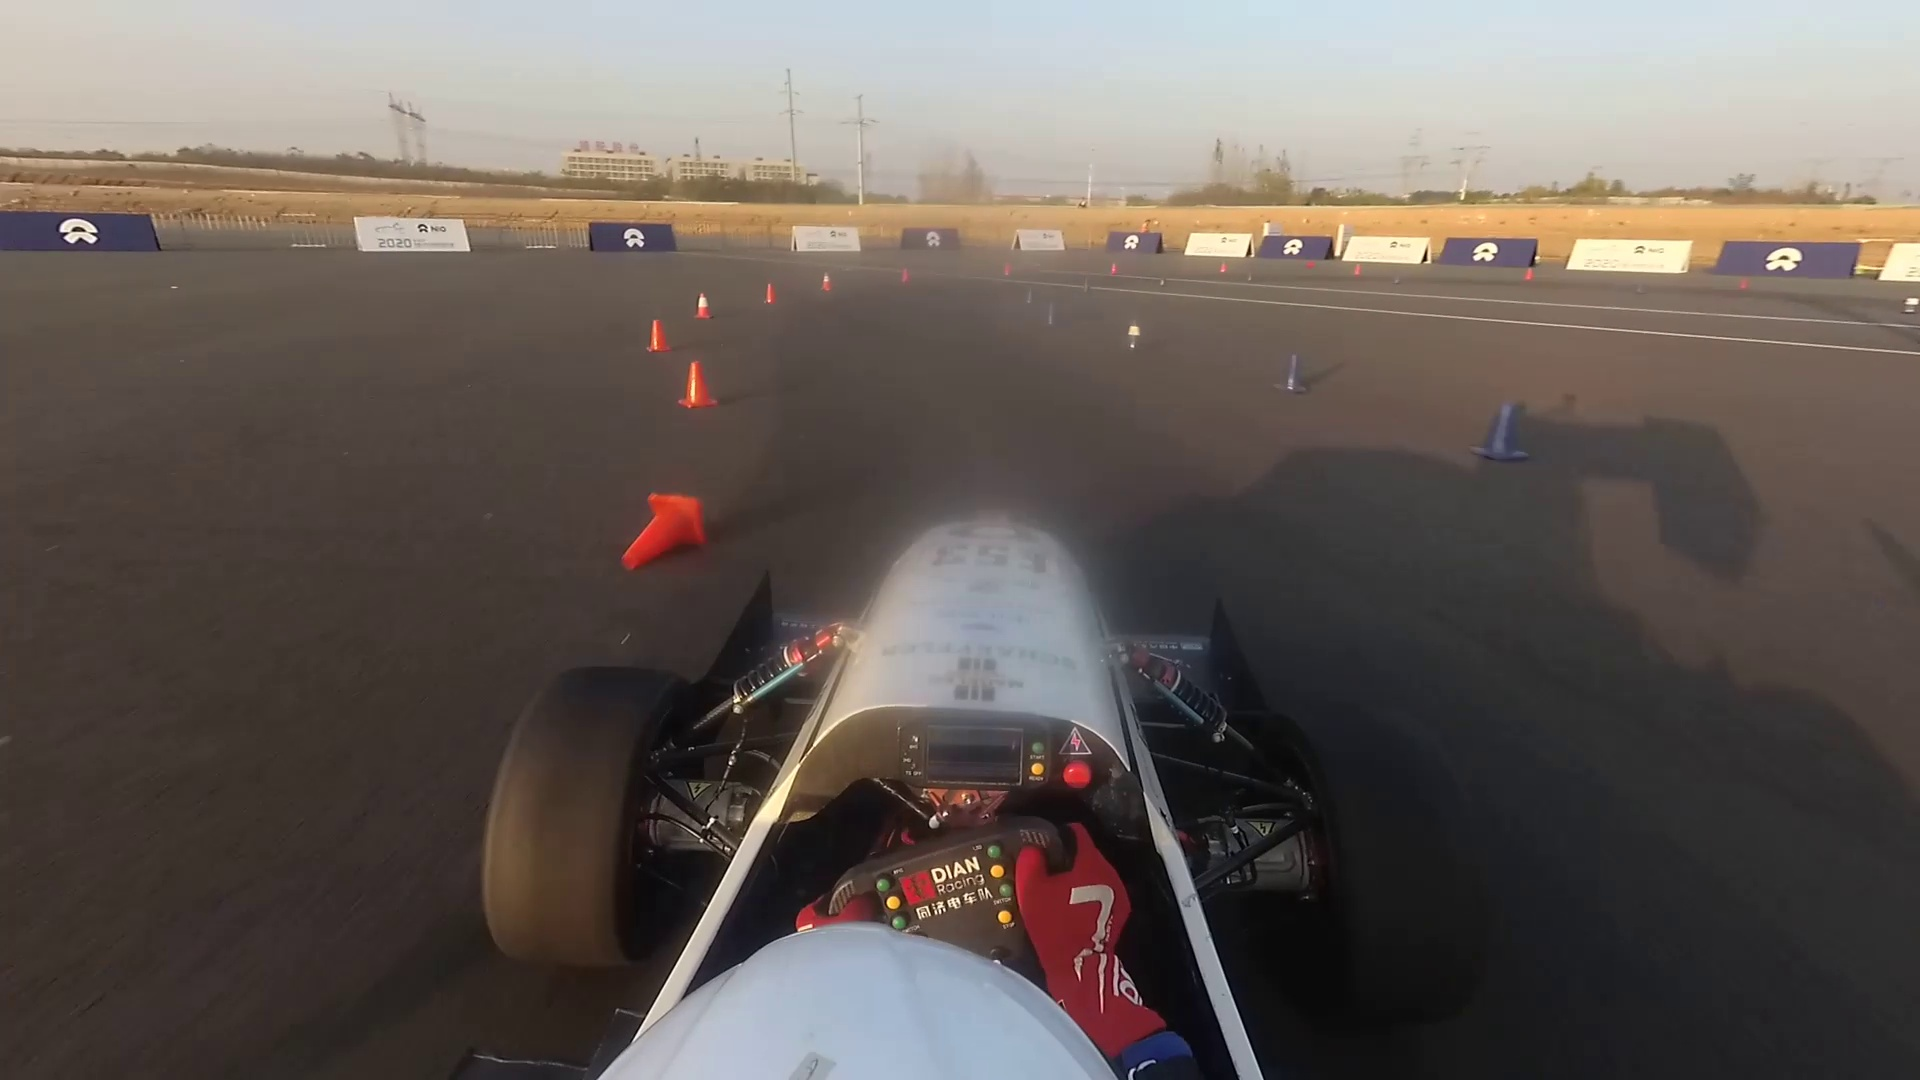blue_cone: (1469, 397, 1532, 462), (1274, 353, 1309, 398), (1124, 316, 1149, 359), (1040, 301, 1062, 327), (1077, 276, 1095, 294), (1156, 269, 1170, 290), (1025, 286, 1036, 305)
red_cone: (621, 483, 711, 579), (674, 356, 720, 415), (640, 316, 676, 357), (694, 294, 716, 320), (818, 268, 835, 295), (1731, 274, 1756, 293), (761, 280, 777, 307), (895, 264, 914, 287), (1518, 265, 1539, 284), (1001, 258, 1017, 280), (1216, 256, 1230, 276), (1108, 256, 1120, 276), (1352, 262, 1364, 277), (1305, 258, 1317, 270)
